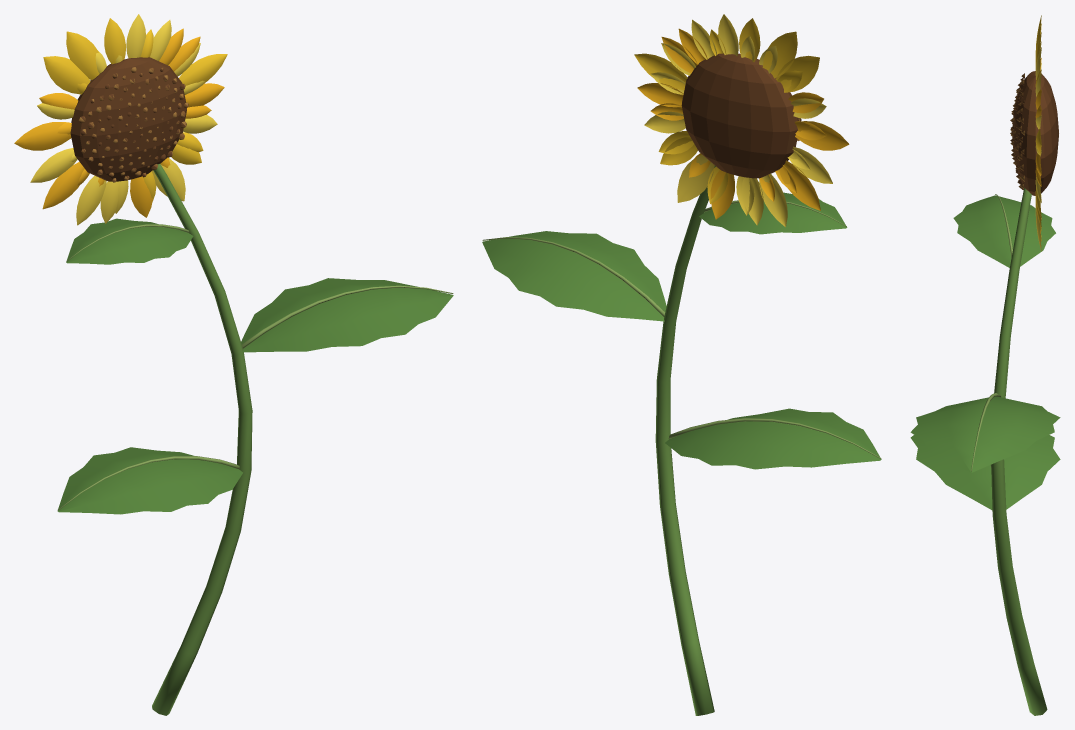
The model's file is sunflower-test-bloom-3-0.glb.
3 views of the same model, side by side, from view 1: azimuth 30°, elevation 25°; view 2: azimuth 150°, elevation 25°; view 3: azimuth 270°, elevation 25° (orthographic). The views are drawn at different scales.
Parts seen in each view (by area): view 1: Curved tapered stem; view 2: Curved tapered stem; view 3: Curved tapered stem.
Part boxes in pixels (x1=…): Curved tapered stem: x1=14, y1=14, x2=453, y2=715; Curved tapered stem: x1=482, y1=14, x2=881, y2=715; Curved tapered stem: x1=910, y1=15, x2=1060, y2=715.
Size of the model in its own units: 0.4214 by 0.709 by 0.1462.
